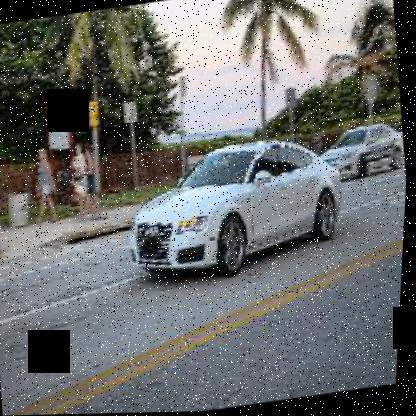not_emergency: (103, 123, 375, 315)
